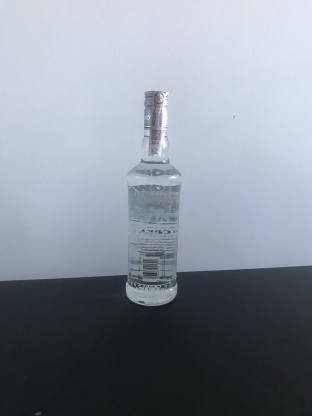nakretka: (141, 86, 171, 132)
